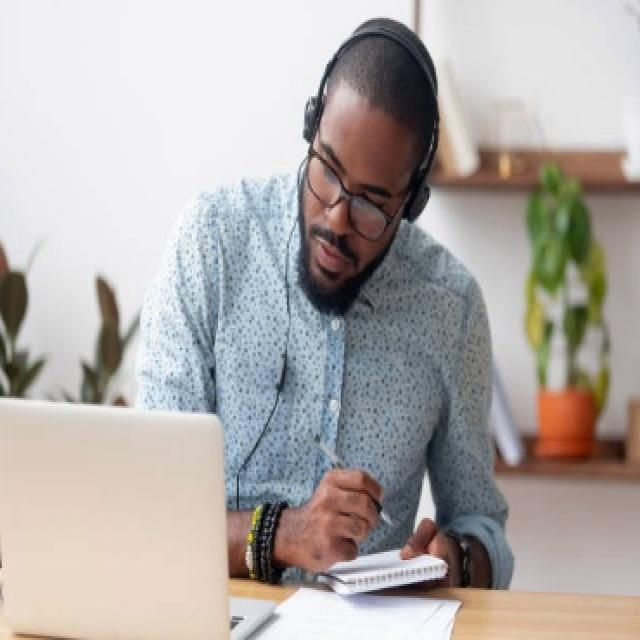adult: (192, 17, 507, 584)
